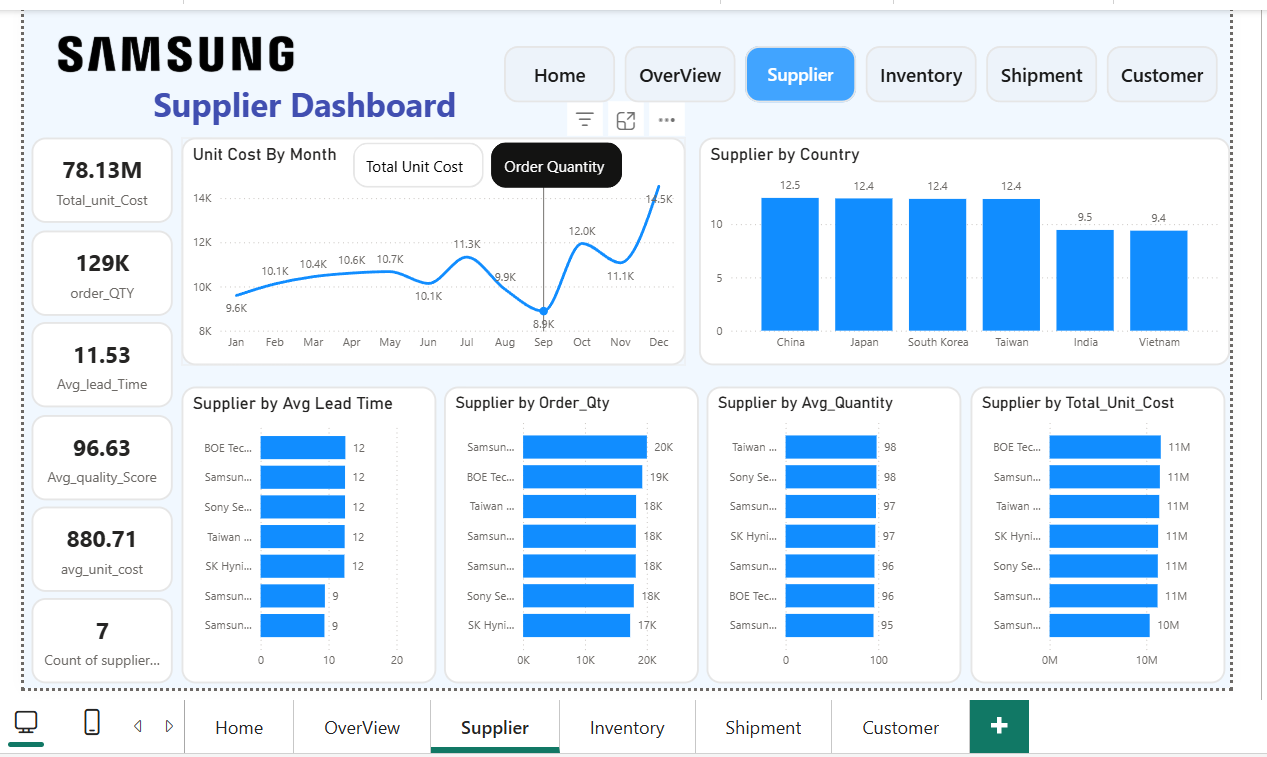

This screenshot's page, from the dashboard's own definition file:
{"tool":"powerbi","page":{"name":"Supplier","canvas":[1280,720],"ordinal":2},"visuals":[{"type":"card","fields":{"Values":["fact_procurement.Total_unit_Cost"]},"box":[8,135.4,149.7,90.8],"z":0},{"type":"card","fields":{"Values":["MeasuresTable.order_QTY"]},"box":[8,234.2,149.7,90.8],"z":1000},{"type":"card","fields":{"Values":["fact_procurement.Avg_quality_Score"]},"box":[8,430.1,149.7,90.8],"z":2000},{"type":"card","fields":{"Values":["MeasuresTable.Avg_lead_Time"]},"box":[8,331.3,149.7,90.8],"z":3000},{"type":"card","fields":{"Values":["fact_procurement.avg_unit_cost"]},"box":[8,527.3,149.7,90.8],"z":4000},{"type":"card","fields":{"Values":["CountNonNull(dim_supplier.supplier_id)"]},"box":[8,624.4,150,90.8],"z":5000},{"type":"clusteredBarChart","title":"Supplier by Avg Lead Time","fields":{"Category":["dim_supplier.supplier_name"],"Y":["MeasuresTable.Avg_lead_Time"]},"box":[167.3,399.8,270.8,315.4],"z":6000},{"type":"clusteredBarChart","title":"Supplier by Order_Qty","fields":{"Category":["dim_supplier.supplier_name"],"Y":["MeasuresTable.order_QTY"]},"box":[446,399.8,270.8,315.4],"z":7000},{"type":"clusteredBarChart","title":"Supplier by Total_Unit_Cost","fields":{"Category":["dim_supplier.supplier_name"],"Y":["fact_procurement.Total_unit_Cost"]},"box":[1005.1,399.8,270.8,315.4],"z":8000},{"type":"clusteredColumnChart","title":"Supplier by Country","fields":{"Category":["dim_supplier.country"],"Y":["MeasuresTable.Avg_lead_Time"]},"box":[716.8,135.4,563.9,242.1],"z":9000},{"type":"lineChart","title":"Unit Cost By Month","fields":{"Y":["MeasuresTable.order_QTY"],"Category":["dim_date.Month_Short"]},"box":[167.3,135.4,535.2,242.1],"z":10000},{"type":"advancedSlicerVisual","fields":{"Values":["Cost_Qty_Supplier.Cost_Qty_Supplier"]},"box":[344.1,135.4,296.3,58.9],"z":11000},{"type":"clusteredBarChart","title":"Supplier by Avg_Quantity","fields":{"Category":["dim_supplier.supplier_name"],"Y":["fact_procurement.Avg_quality_Score"]},"box":[724.8,399.8,270.8,315.4],"z":12000},{"type":"pageNavigator","box":[509.7,38.2,761.4,60.5],"z":13000},{"type":"image","box":[15.9,6.4,278.8,79.6],"z":14000},{"type":"textbox","title":"Supplier Dashboard","box":[132.2,76.5,360,54.2],"z":15000}]}

Visuals, with their boxes on the page's 1280x720 design canvas (x1, y1, x2, y2). These are canvas units, not pixel positions in the 1267x757 screenshot, which may show the page scaled, cropped or inside an application window:
card - fact_procurement.Total_unit_Cost: select_region(8, 135, 158, 226)
card - MeasuresTable.order_QTY: select_region(8, 234, 158, 325)
card - fact_procurement.Avg_quality_Score: select_region(8, 430, 158, 521)
card - MeasuresTable.Avg_lead_Time: select_region(8, 331, 158, 422)
card - fact_procurement.avg_unit_cost: select_region(8, 527, 158, 618)
card - CountNonNull(dim_supplier.supplier_id): select_region(8, 624, 158, 715)
"Supplier by Avg Lead Time" clusteredBarChart: select_region(167, 400, 438, 715)
"Supplier by Order_Qty" clusteredBarChart: select_region(446, 400, 717, 715)
"Supplier by Total_Unit_Cost" clusteredBarChart: select_region(1005, 400, 1276, 715)
"Supplier by Country" clusteredColumnChart: select_region(717, 135, 1281, 378)
"Unit Cost By Month" lineChart: select_region(167, 135, 702, 378)
advancedSlicerVisual - Cost_Qty_Supplier.Cost_Qty_Supplier: select_region(344, 135, 640, 194)
"Supplier by Avg_Quantity" clusteredBarChart: select_region(725, 400, 996, 715)
pageNavigator: select_region(510, 38, 1271, 99)
image: select_region(16, 6, 295, 86)
"Supplier Dashboard" textbox: select_region(132, 76, 492, 131)
